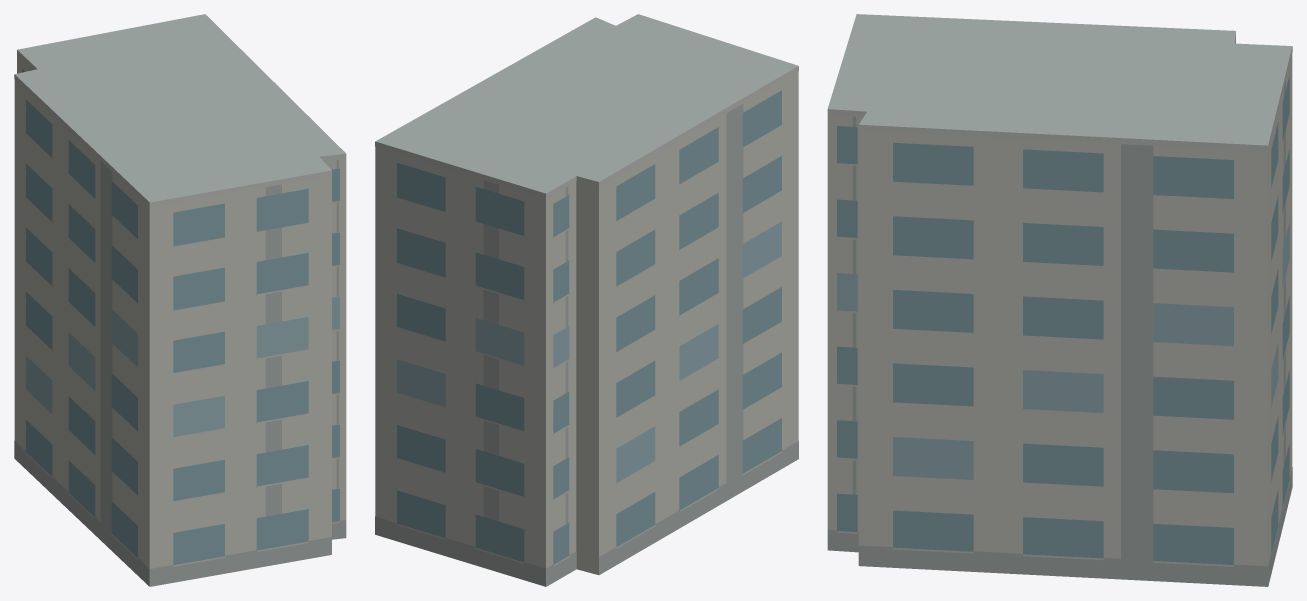
File: survey-upis-32566999.glb
3 views of the same model, side by side, from view 1: azimuth 30°, elevation 25°; view 2: azimuth 150°, elevation 25°; view 3: azimuth 270°, elevation 25° (orthographic). The views are drawn at different scales.
Parts seen in each view (by area): view 1: survey-upis-32566999.tmp; view 2: survey-upis-32566999.tmp; view 3: survey-upis-32566999.tmp.
Part boxes in pixels (left/top/right/bottom): survey-upis-32566999.tmp: left=14, top=14, right=346, bottom=586; survey-upis-32566999.tmp: left=375, top=14, right=798, bottom=586; survey-upis-32566999.tmp: left=827, top=14, right=1292, bottom=586.
Size of the model in its own units: 11.45 by 17.9 by 17.1.
